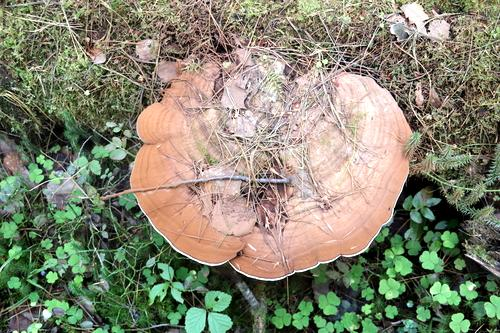Ganoderma - Fruit Body: (130, 50, 415, 286)
